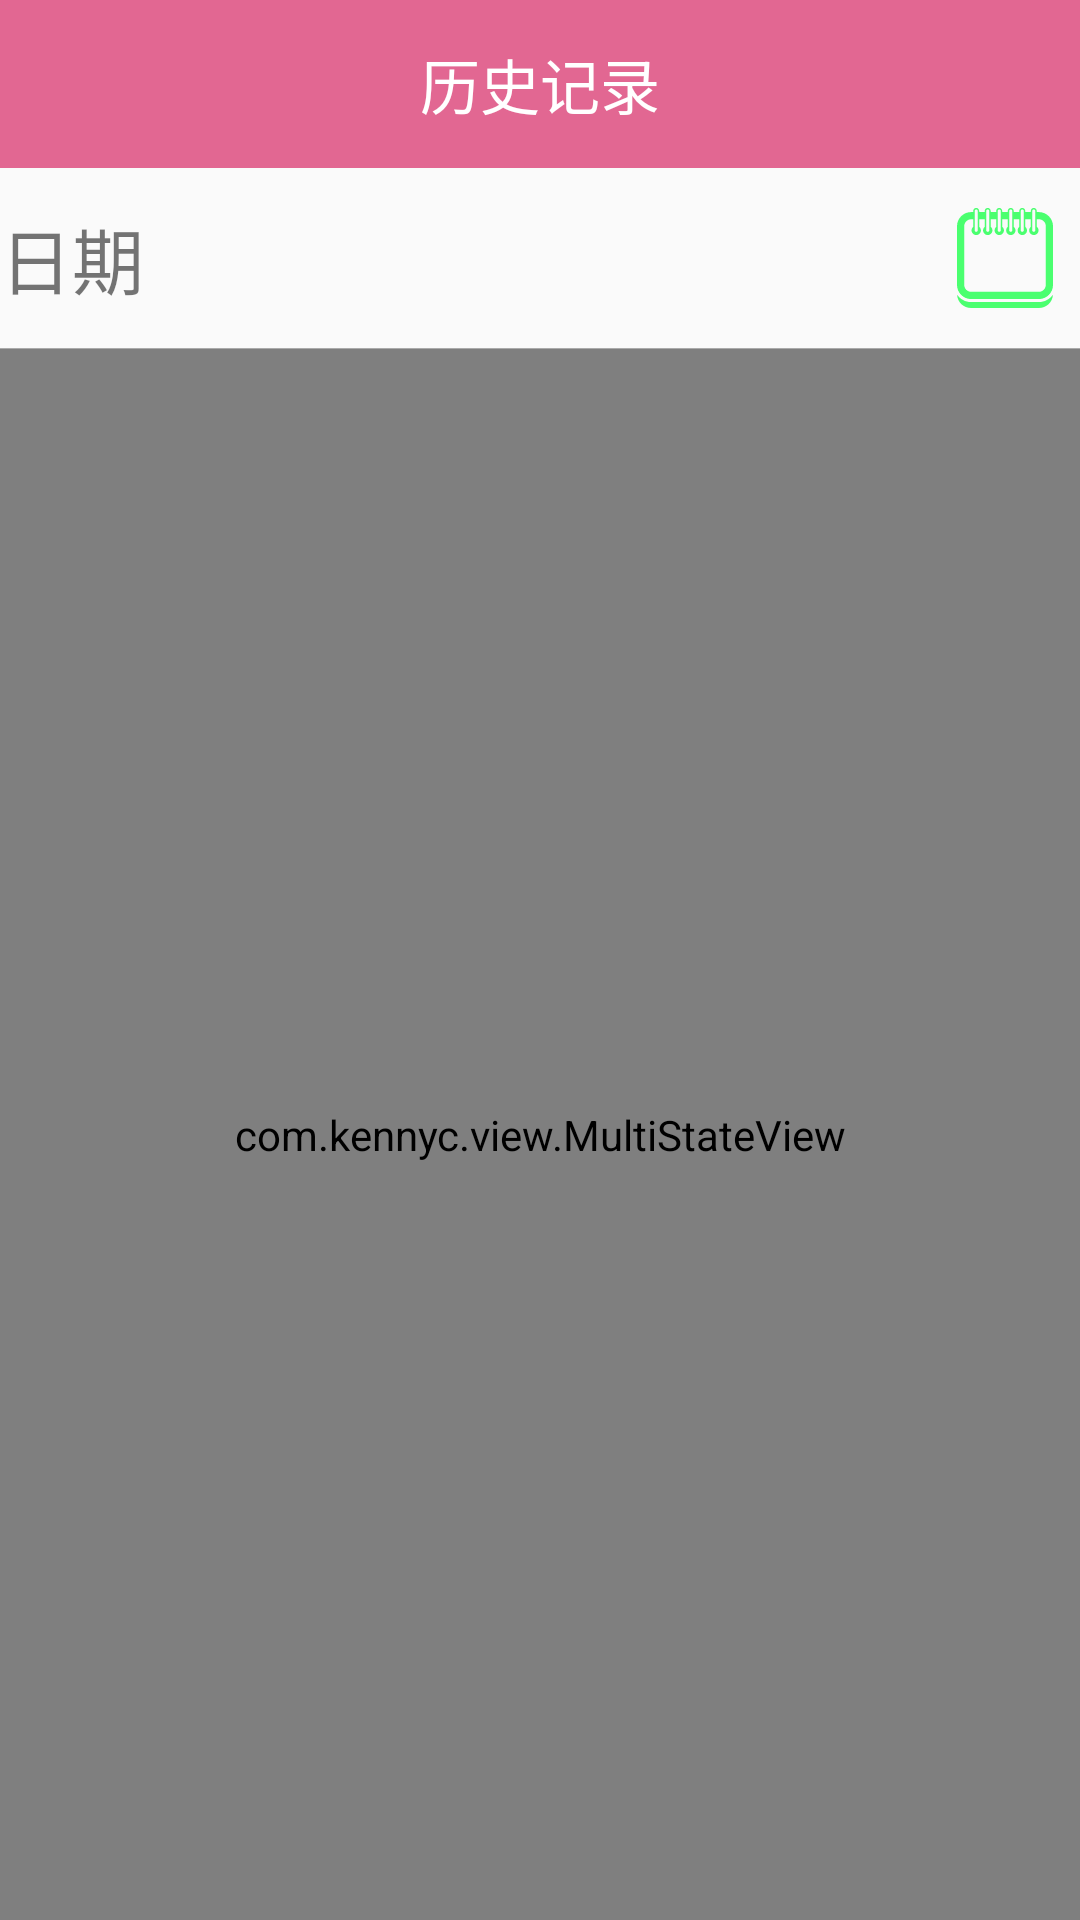

Where icons sit on this 1080x1920 app screen, as [x1,y1,x2,y2]:
calendar: [957,208,1053,308]
